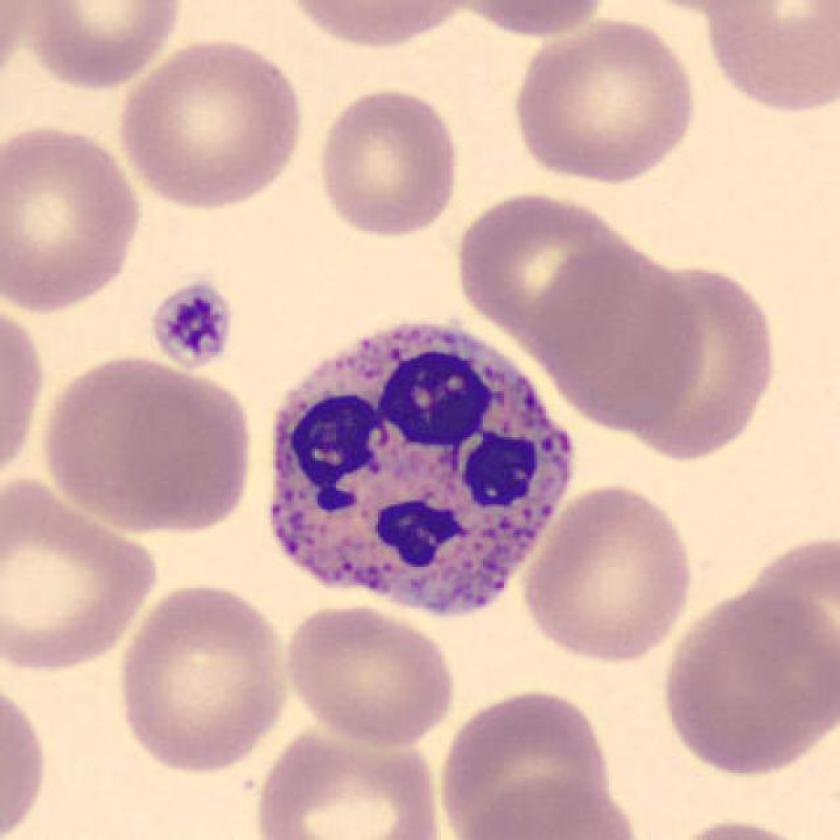neutrophil: (273, 326, 575, 618)
